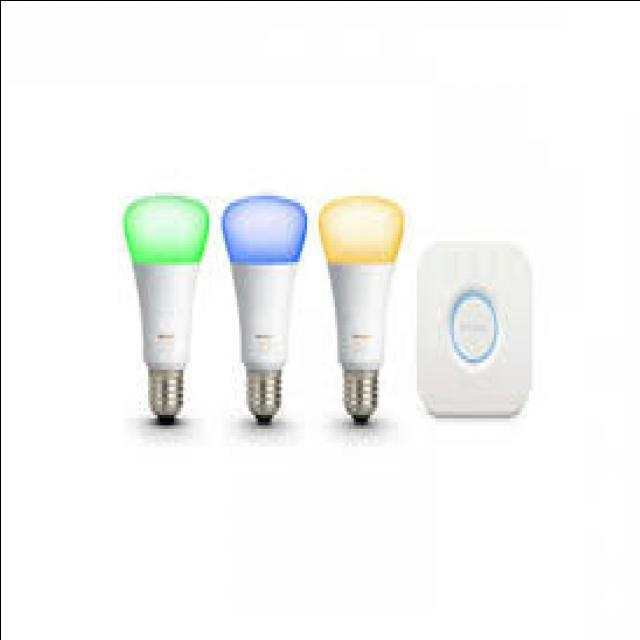light_bulb: (311, 170, 414, 438), (116, 166, 216, 440), (213, 168, 314, 438)
